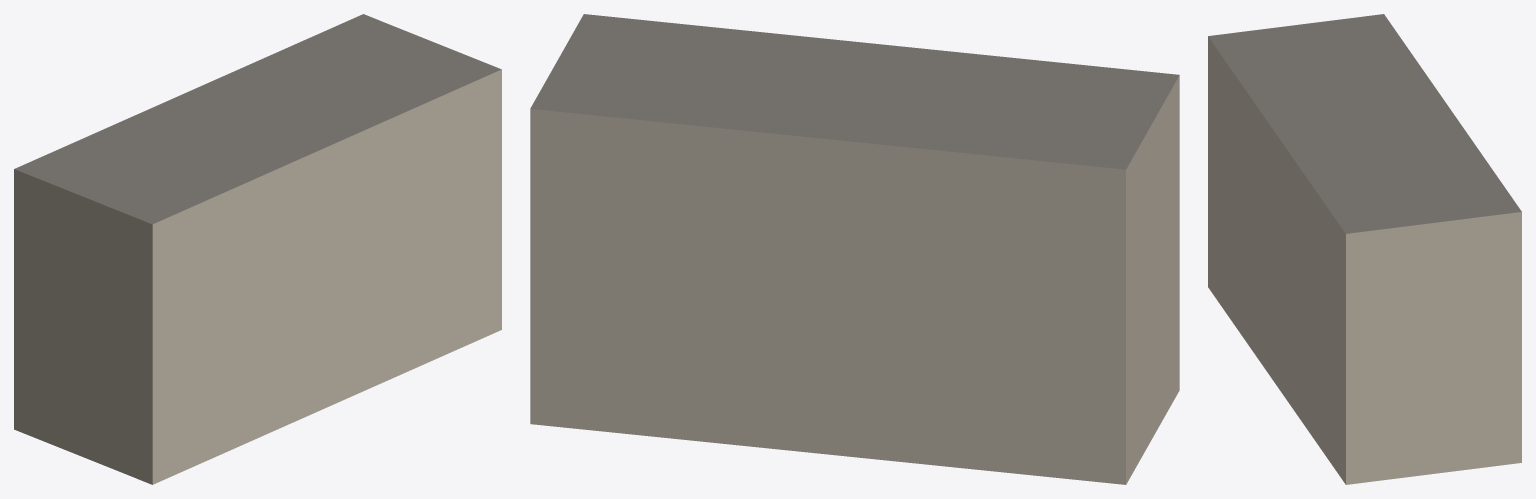
3 views of the same model, side by side, from view 1: azimuth 30°, elevation 25°; view 2: azimuth 150°, elevation 25°; view 3: azimuth 270°, elevation 25° (orthographic). The views are drawn at different scales.
Parts seen in each view (by area): view 1: HP-w859488662; view 2: HP-w859488662; view 3: HP-w859488662.
Boxes of the visible parts, bbox=[...] form: HP-w859488662: bbox=[14, 14, 501, 484]; HP-w859488662: bbox=[530, 14, 1179, 484]; HP-w859488662: bbox=[1208, 14, 1521, 484].
Size of the model in its own units: 22.55 by 12 by 13.6.
